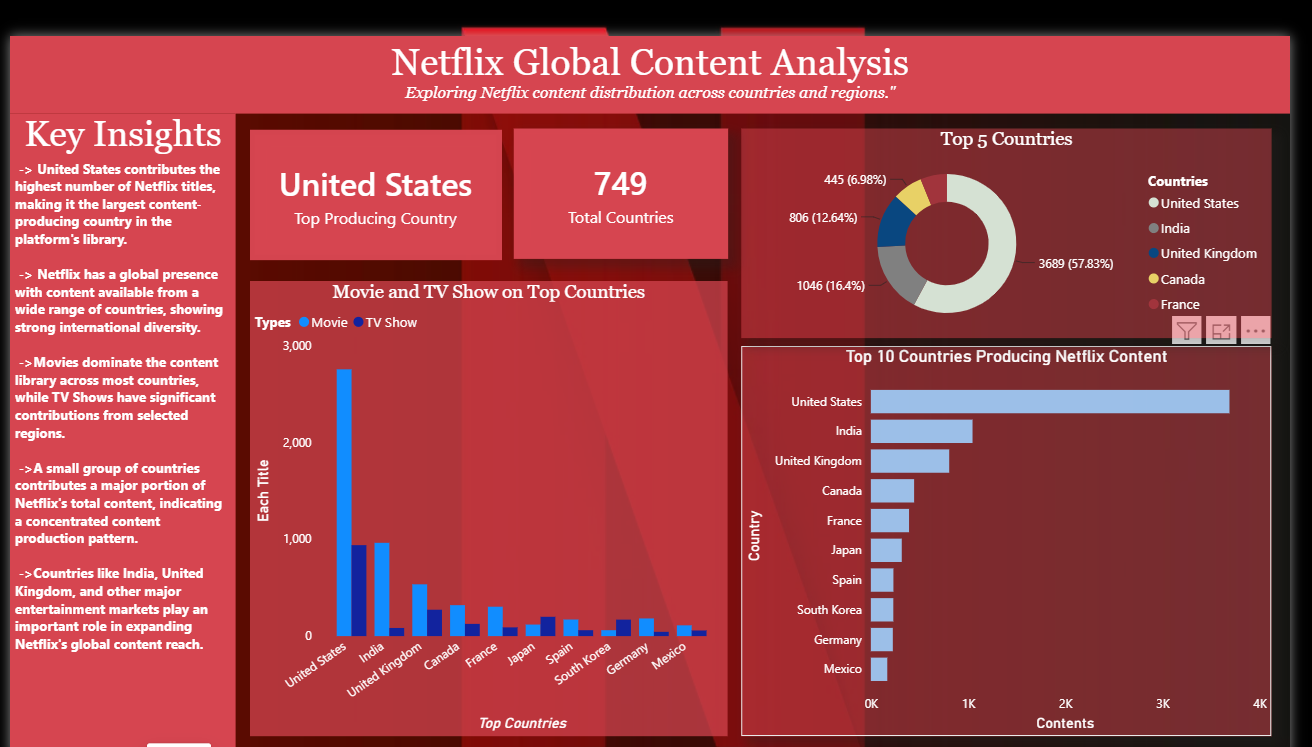

Layout of this report page (visuals, bound fields, positions):
{"tool":"powerbi","page":{"name":"Page 3","canvas":[1280,720],"ordinal":2},"visuals":[{"type":"textbox","box":[0,0,1280.6,77.4],"z":0},{"type":"clusteredBarChart","title":"Top 10 Countries Producing Netflix Content","fields":{"Category":["country.country"],"Y":["CountNonNull(country.show_id)"]},"box":[730.6,309.7,530.6,390.3],"z":1000},{"type":"clusteredColumnChart","title":"Movie and TV Show on Top Countries","fields":{"Category":["country.country"],"Y":["CountNonNull(country.show_id)"],"Series":["country.type"]},"box":[240.3,245.2,477.4,454.8],"z":2000},{"type":"donutChart","title":"Top 5 Countries","fields":{"Category":["country.country"],"Y":["CountNonNull(country.show_id)"]},"box":[730.6,91.9,530.6,209.7],"z":3000},{"type":"cardVisual","fields":{"Data":["netflix_cleaned_dataset.Total Countries"]},"box":[503.2,91.9,214.5,130.6],"z":4000},{"type":"cardVisual","fields":{"Data":["country.Top Producing Country"]},"box":[240.3,93.5,251.6,130.6],"z":5000},{"type":"textbox","title":"Key Insights","box":[0,77.4,225.8,641.9],"z":6000}]}

Visuals, with their boxes in screenshot pixels (x1, y1, x2, y2), scaled from the page's 1280x720 canvas onto the 1312x747 screenshot:
textbox: <box>0,0,1311,80</box>
"Top 10 Countries Producing Netflix Content" clusteredBarChart: <box>749,321,1293,726</box>
"Movie and TV Show on Top Countries" clusteredColumnChart: <box>246,254,736,726</box>
"Top 5 Countries" donutChart: <box>749,95,1293,313</box>
cardVisual - netflix_cleaned_dataset.Total Countries: <box>516,95,736,231</box>
cardVisual - country.Top Producing Country: <box>246,97,504,233</box>
"Key Insights" textbox: <box>0,80,231,746</box>
